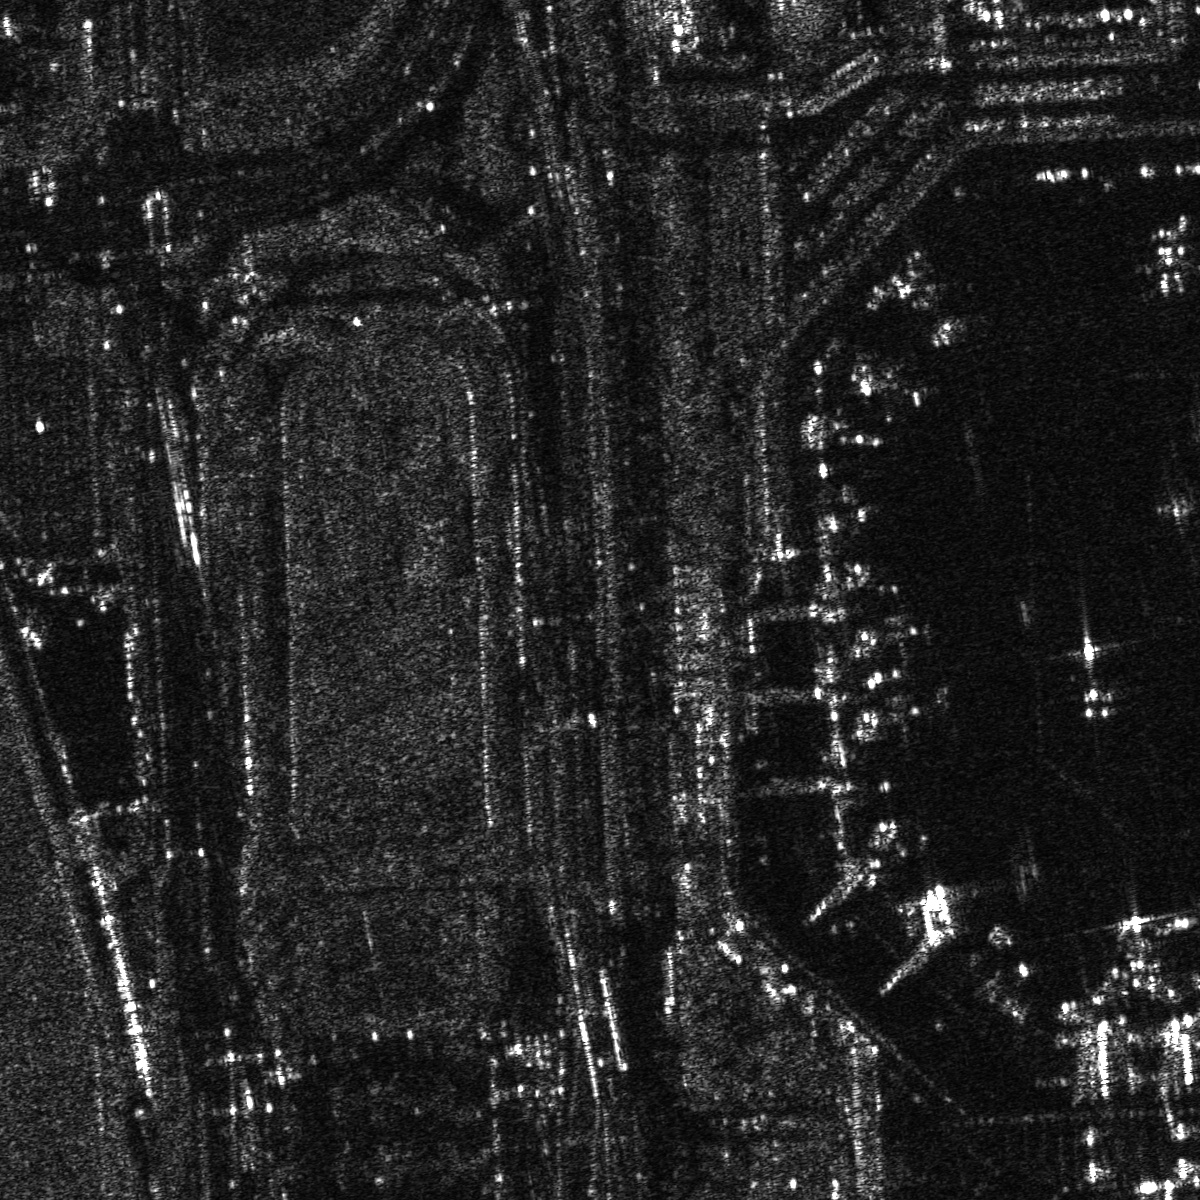A220: (841, 346, 949, 429), (1091, 905, 1170, 1005), (856, 674, 955, 747), (843, 603, 938, 669)
Boeing737: (1041, 621, 1137, 733), (1125, 207, 1199, 305)
